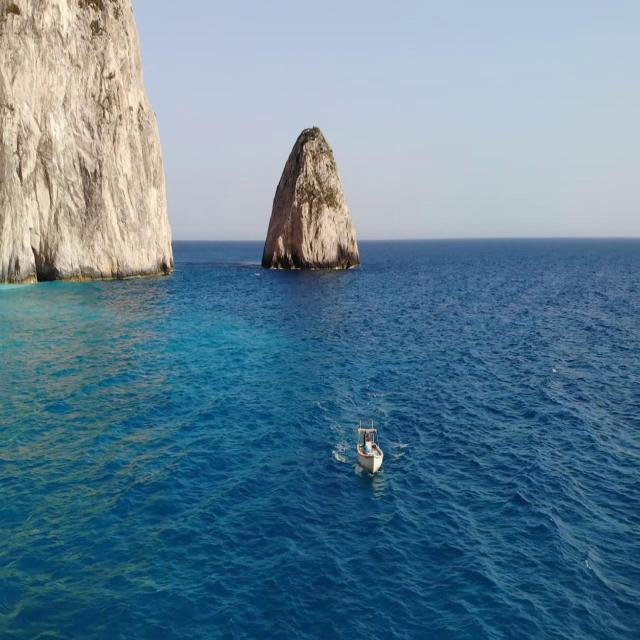boat: (345, 414, 388, 479)
